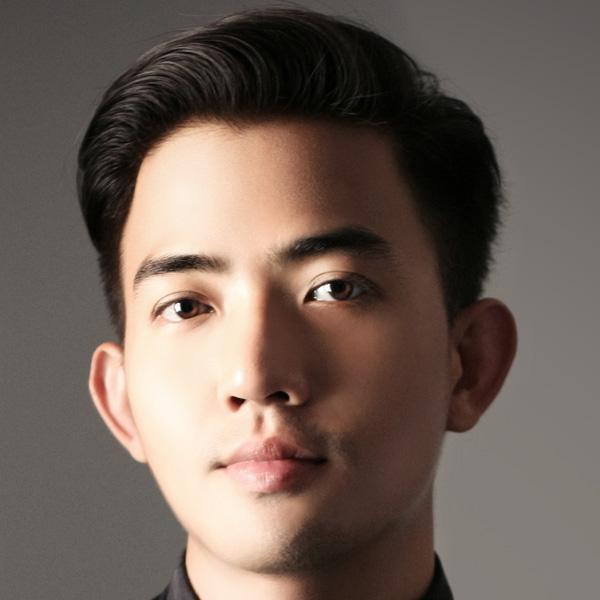Eyes: (295, 263, 385, 322), (142, 281, 222, 339)
